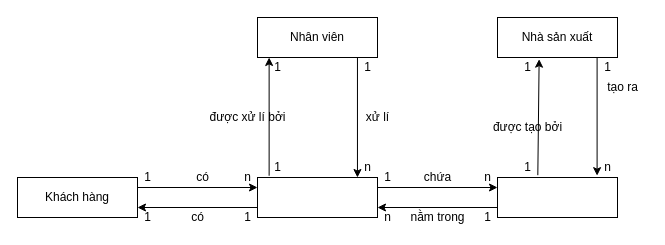
Image size: 665x245. Some labels were removed from this diagram. Each missing label, with the centre of its shape:
"Hóa đơn" belongs at pixel 317 197.
"Sản phẩm" belongs at pixel 557 197.
